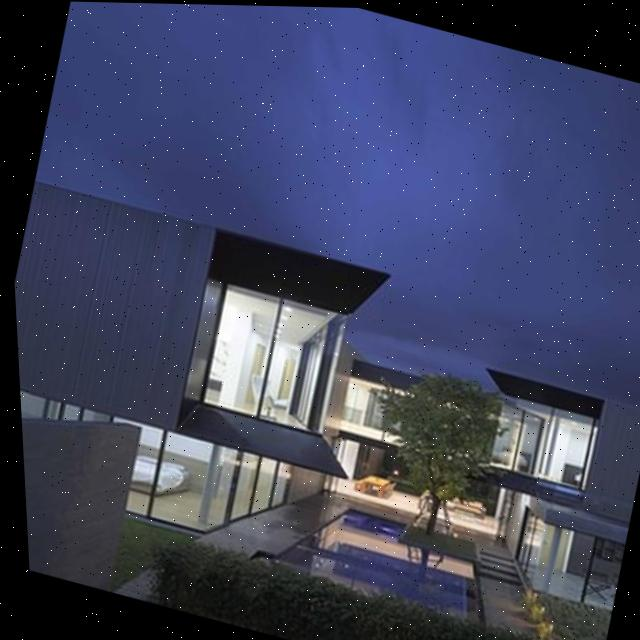building: (9, 178, 409, 568), (428, 355, 640, 627)
